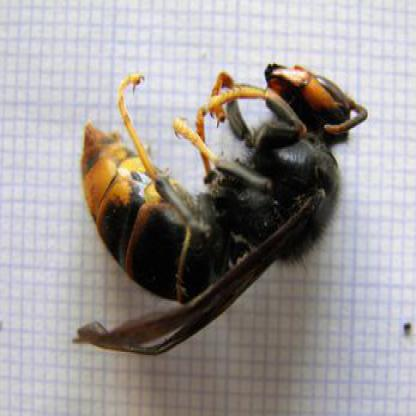Asian Hornet: (73, 60, 372, 362)
